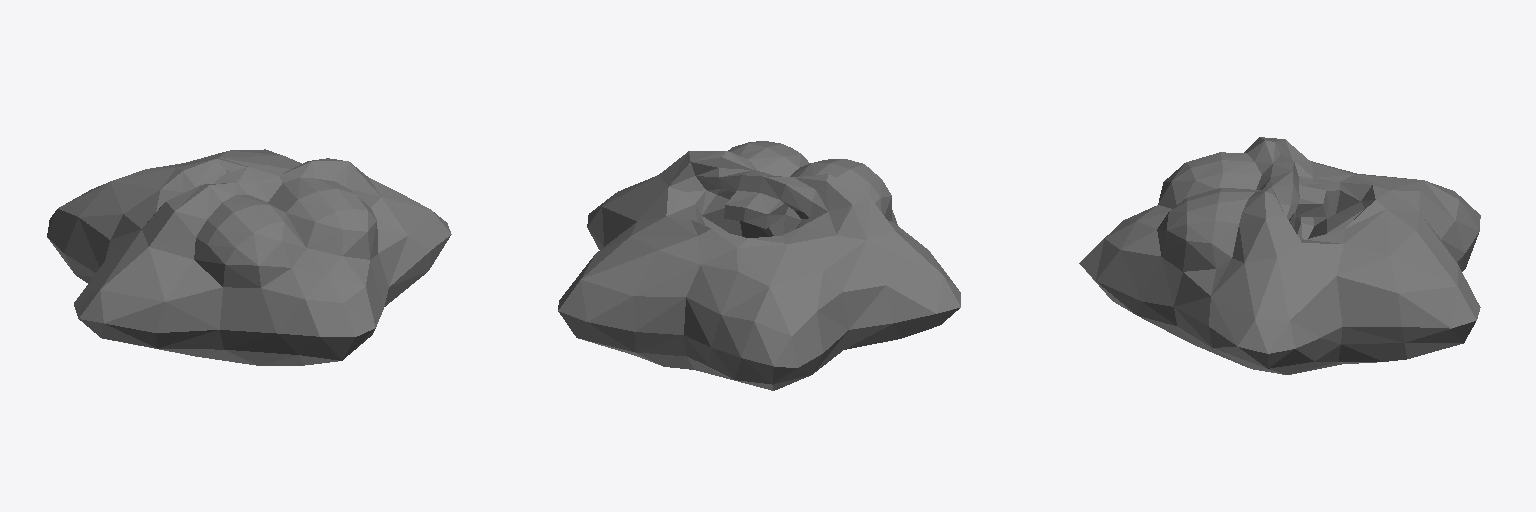
The model's file is HappyStarLow.obj.
The picture shows the model from 3 angles: view 1: azimuth 30°, elevation 25°; view 2: azimuth 150°, elevation 25°; view 3: azimuth 270°, elevation 25°; orthographic projection.
Visible parts, largest first — view 1: HappyStar; view 2: HappyStar; view 3: HappyStar.
Boxes of the visible parts, <box> form: HappyStar: <box>47,149,451,365</box>; HappyStar: <box>558,141,960,390</box>; HappyStar: <box>1079,137,1480,374</box>.
Size of the model in its own units: 27.81 by 12.84 by 26.08.